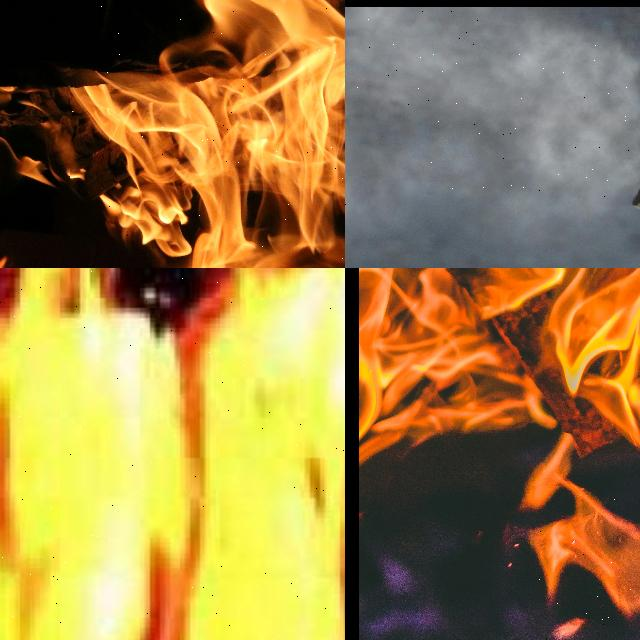fire: (0, 268, 265, 640), (70, 0, 345, 268), (358, 268, 640, 468), (533, 486, 640, 615)
smoke: (345, 8, 637, 206)
